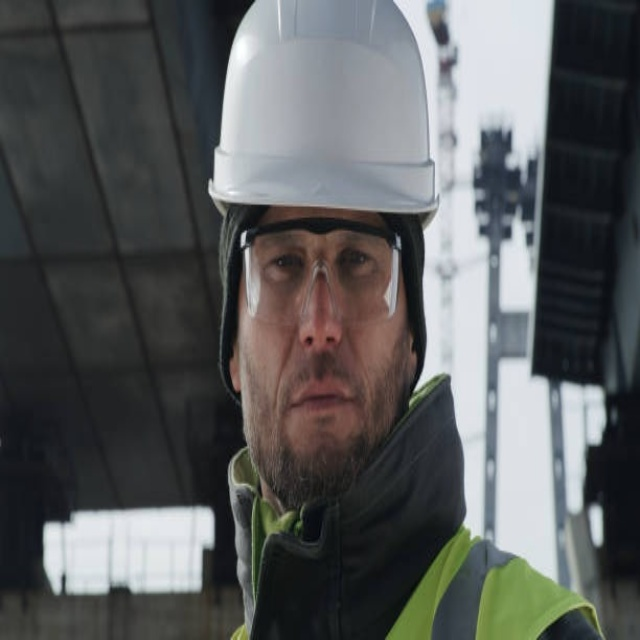Gafas: (241, 225, 403, 324)
Sin_mascara: (283, 365, 357, 456)
